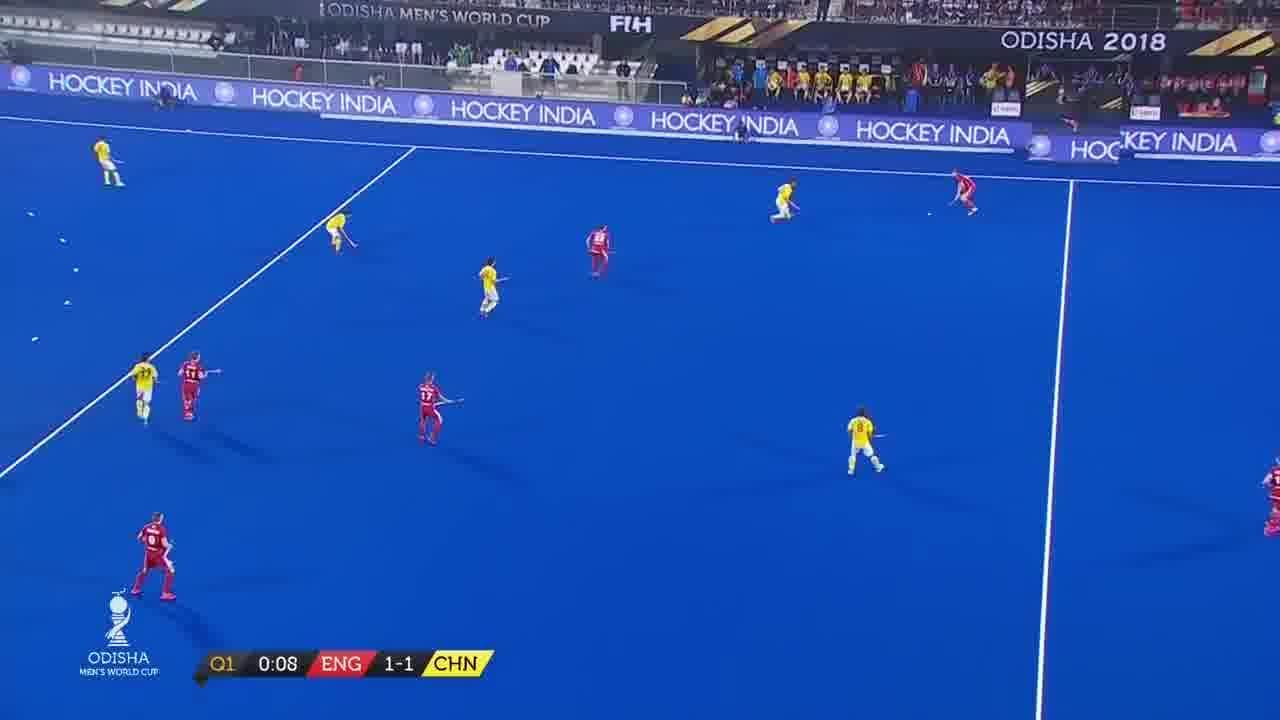ball: (929, 209, 936, 220)
